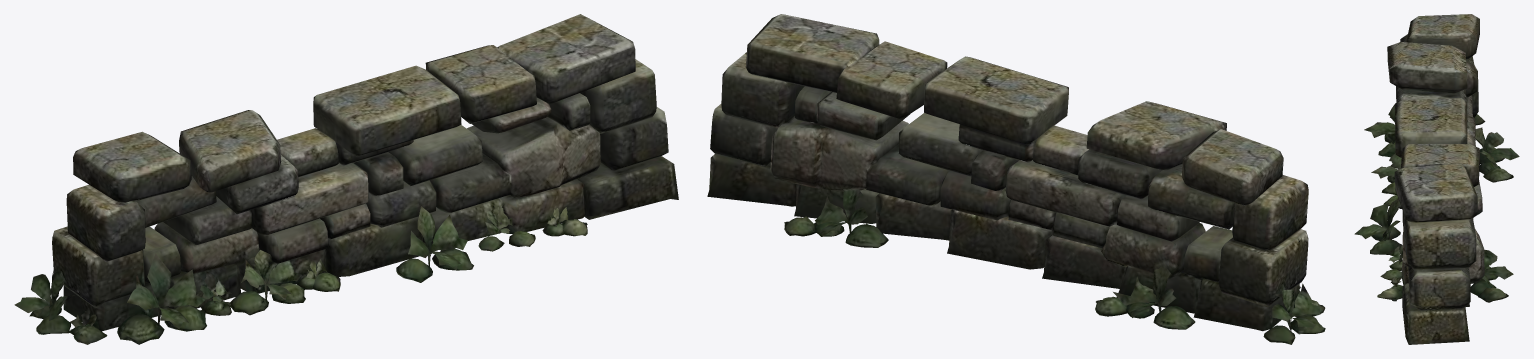
File: act1-a08-2-drystone-wall.glb
3 renders of one model, left to right at view 1: azimuth 30°, elevation 25°; view 2: azimuth 150°, elevation 25°; view 3: azimuth 270°, elevation 25°, orthographic. The views are drawn at different scales.
Visible parts, largest first — view 1: act1-a08-2-drystone-wall; view 2: act1-a08-2-drystone-wall; view 3: act1-a08-2-drystone-wall.
Part boxes in pixels (x1,y1,x2,y2): act1-a08-2-drystone-wall: (14,14,678,344); act1-a08-2-drystone-wall: (707,14,1325,344); act1-a08-2-drystone-wall: (1354,14,1519,344).
Bounding box in the file's own units: 3.2 × 0.8353 × 0.9557.
Materials: 1 (1 with a texture image).
